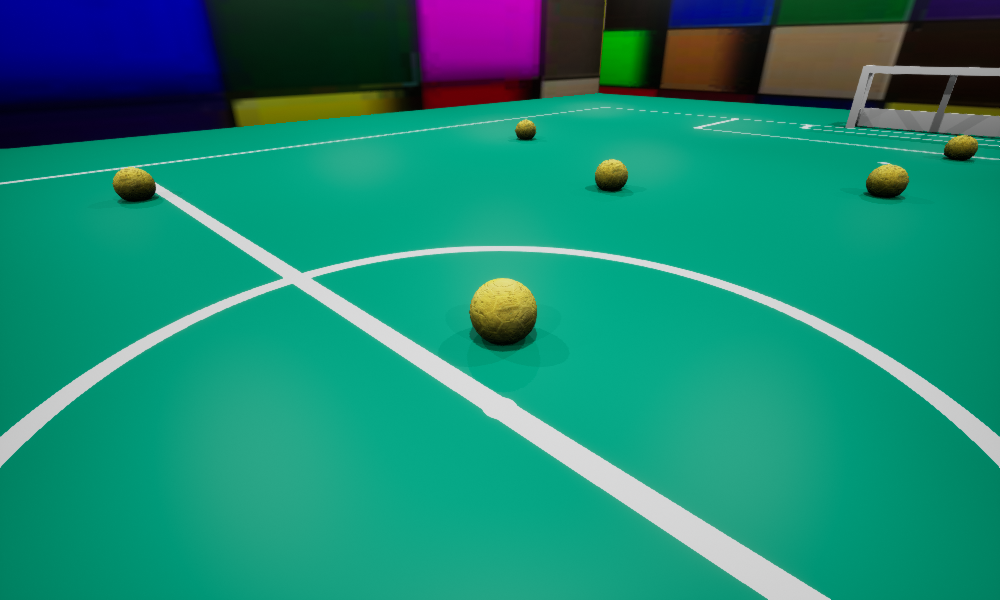b: (469, 278, 536, 344), (112, 167, 155, 201), (866, 164, 908, 197), (595, 159, 627, 190), (944, 135, 977, 159), (515, 119, 535, 139)
g: (845, 65, 999, 136)
